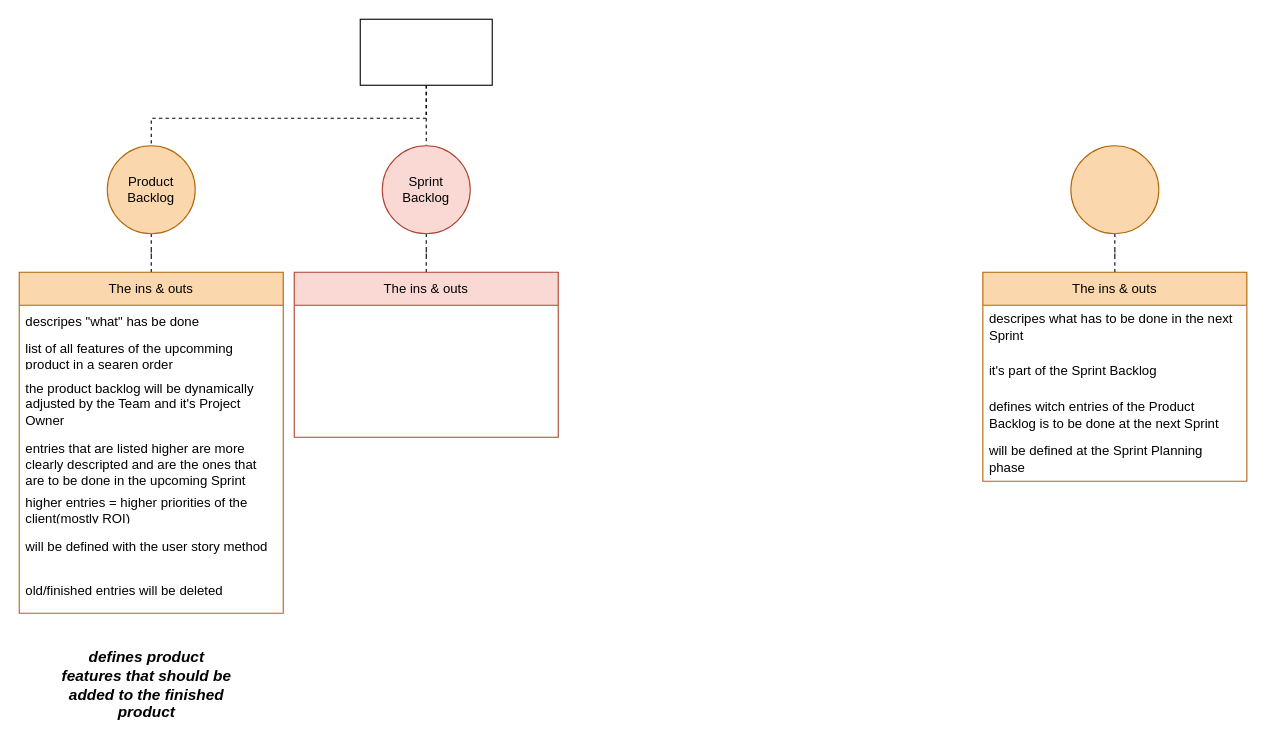
This 1266x740 diagram has some shape labels left out. Each missing label, with the box of its shape:
Artifacts: (359, 18, 492, 85)
Sprint-Ziel: (1070, 145, 1159, 234)
